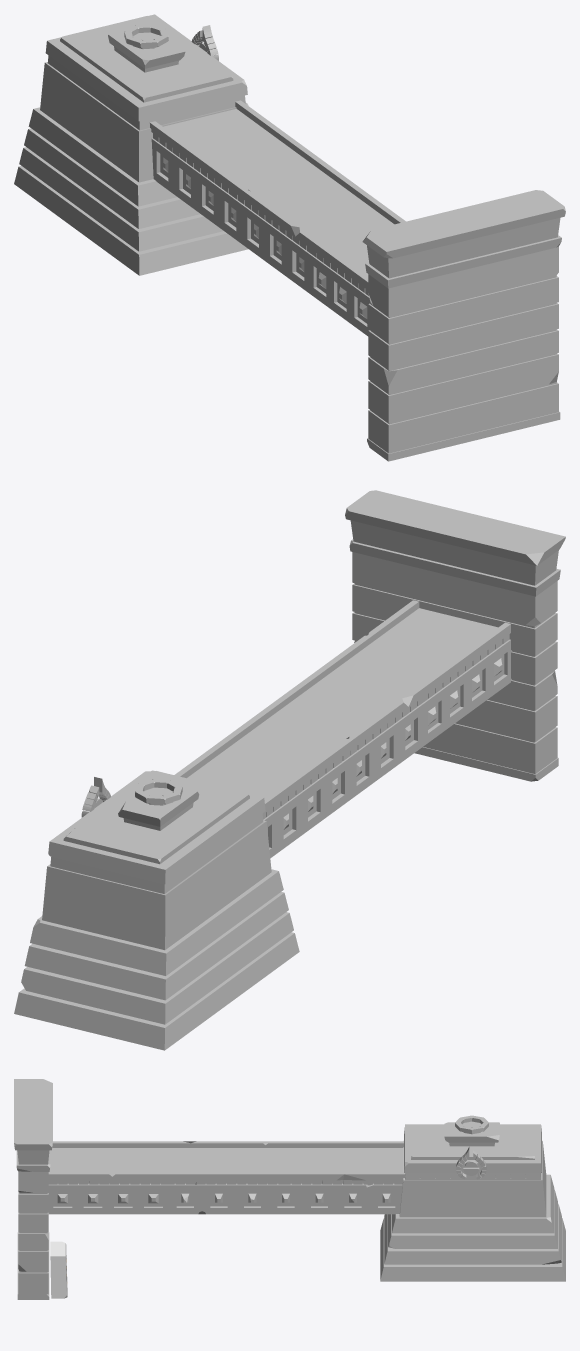
File: puzzle_2.fbx
3 renders of one model, top to bottom at view 1: azimuth 30°, elevation 25°; view 2: azimuth 150°, elevation 25°; view 3: azimuth 270°, elevation 25°, orthographic. The views are drawn at different scales.
Parts seen in each view (by area): view 1: Cube.021; view 2: Cube.021; view 3: Cube.021, Cube.001.
Part boxes in pixels (x1,y1,x2,y2): Cube.021: (14, 14, 565, 461); Cube.021: (14, 490, 565, 1050); Cube.021: (14, 1079, 565, 1299); Cube.001: (50, 1241, 67, 1298).
Bounding box in the file's own units: 6162 × 3770 × 11994.
